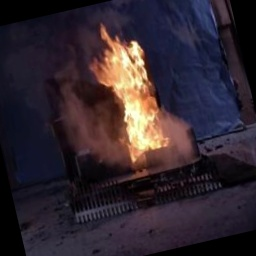fire: (76, 11, 180, 172)
